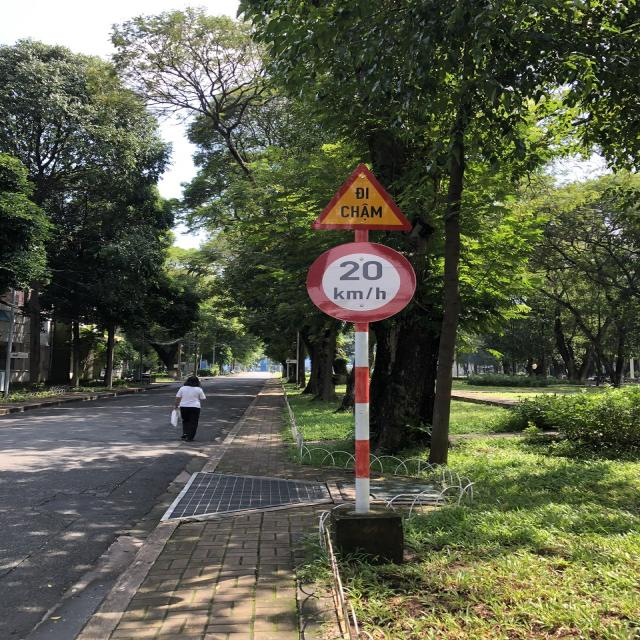Bien bao di cham: (304, 158, 412, 235)
Bien bao toc do toi da cho phep: (302, 238, 420, 328)
